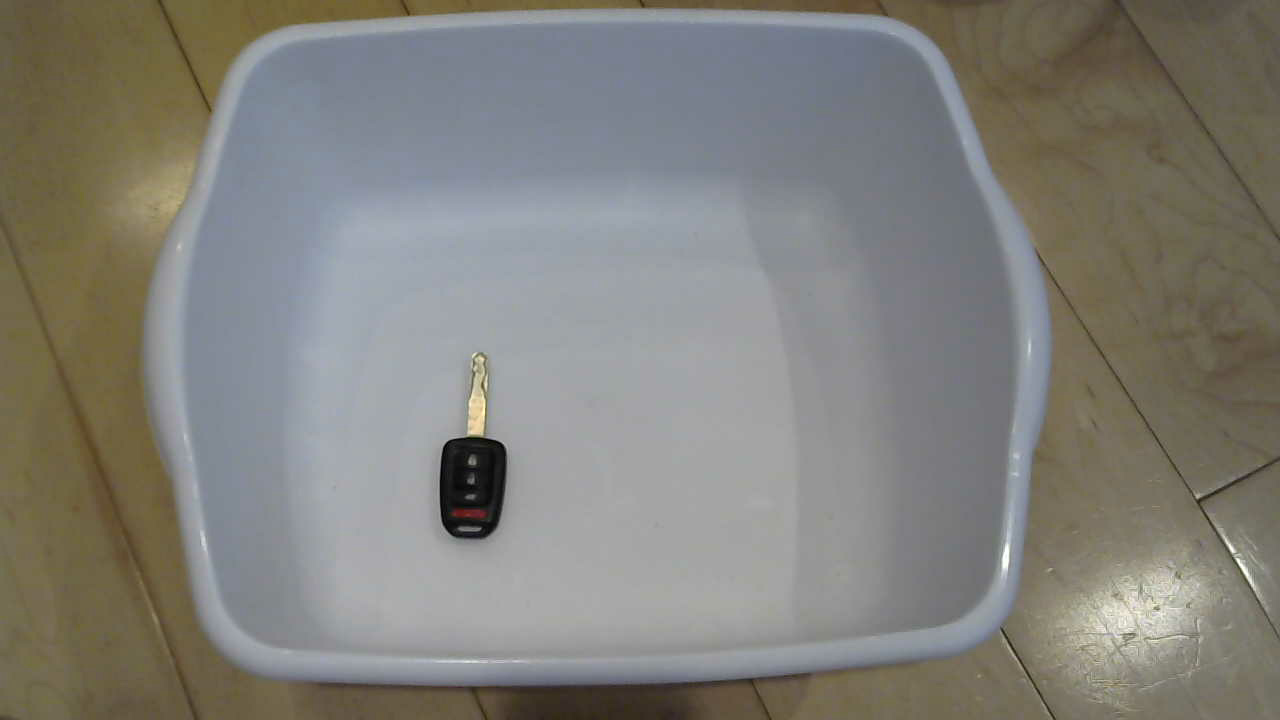key: (426, 346, 535, 546)
